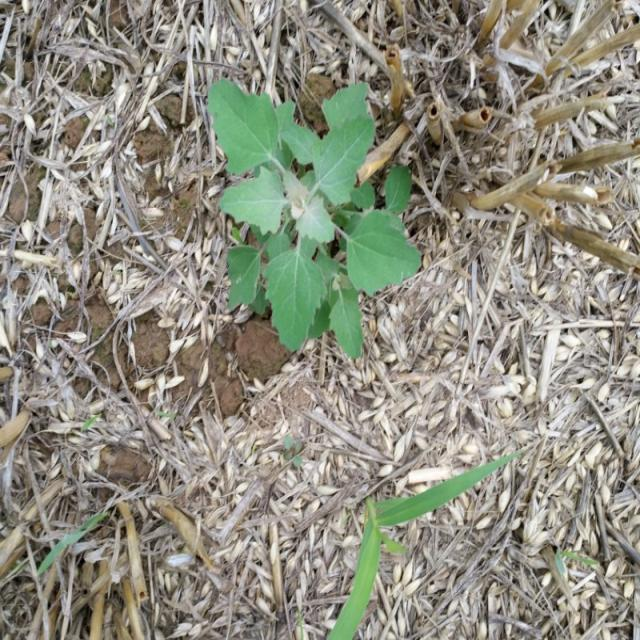goosefoots: (194, 67, 416, 365)
